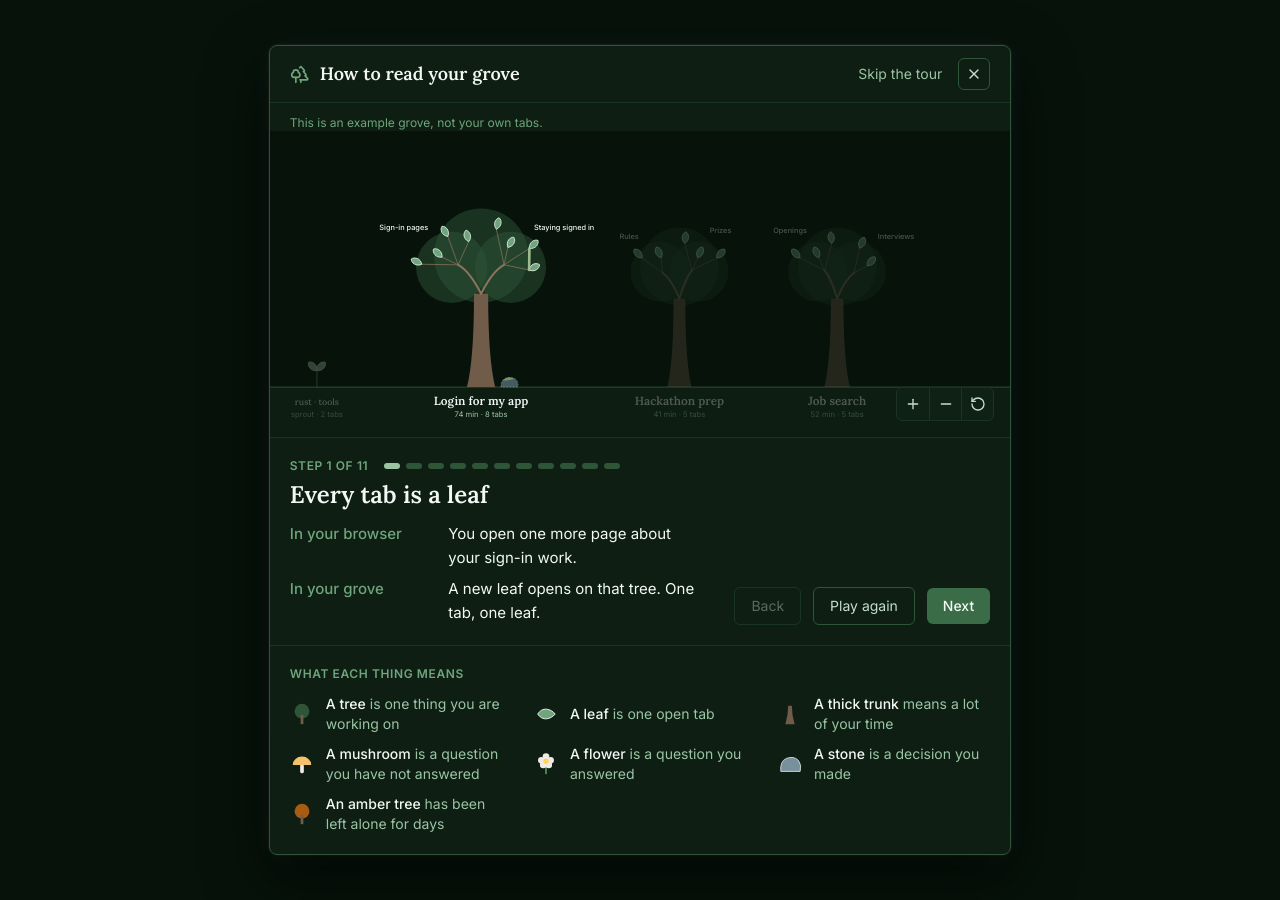
the tour dialog › keeps its steps, focus and progress while its words fade between steps
Expected: the dialog with class "grove-guide" is shown, [269,45,1011,855]
Click the button "Next". click: (959, 606)
box: [927,588,990,624]
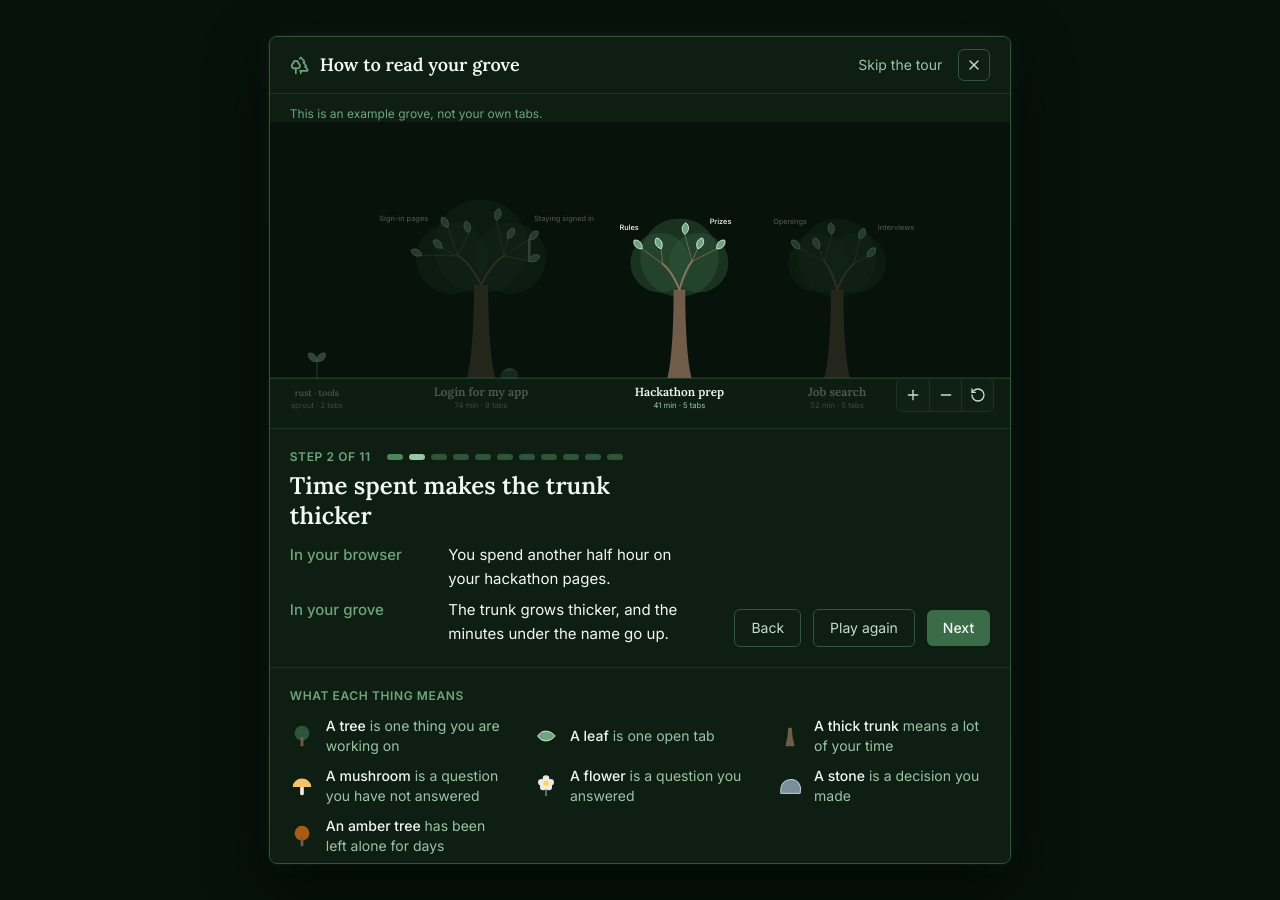
Result: the heading "Time spent makes the trunk thicker" is shown at [290,470,610,531]
Result: the text "Step 2 of 11" is shown at [290,449,371,465]
